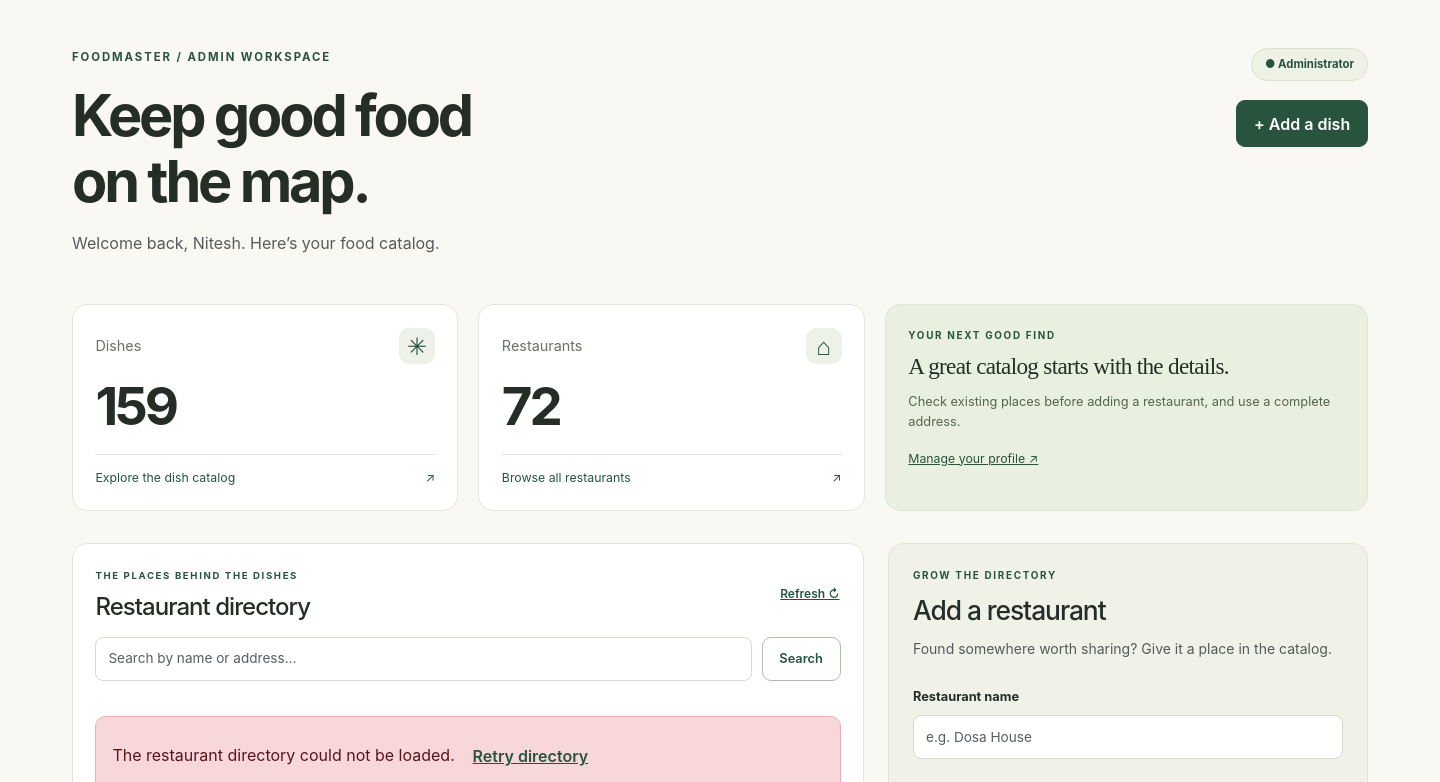
directory failures provide a retry action
expect the text "The restaurant directory could not be loaded." is shown: met, box [112,744,455,764]
Click the button "Retry directory" at (530, 756), box [455,733,606,780]
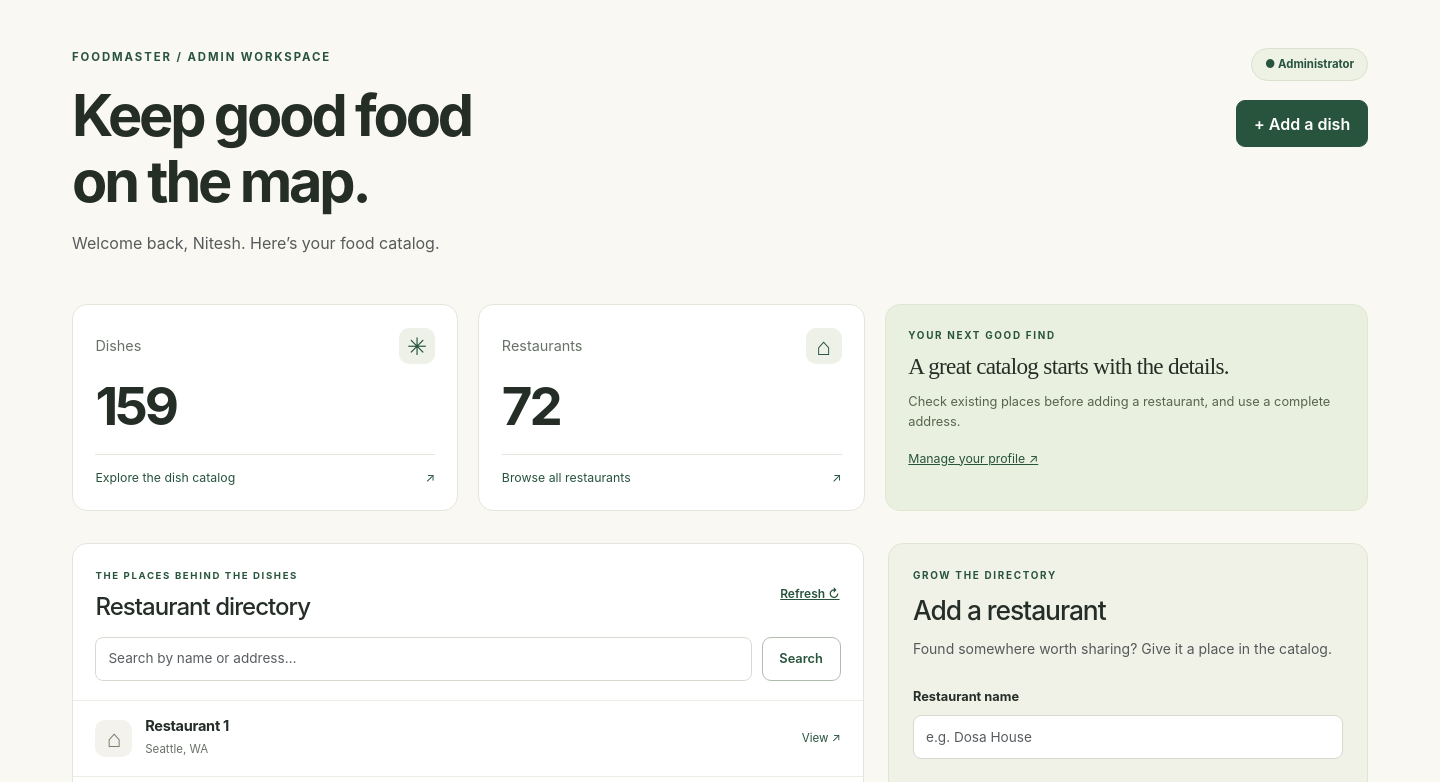
expect the link "Restaurant 1" is shown: met, box [145,717,229,735]
